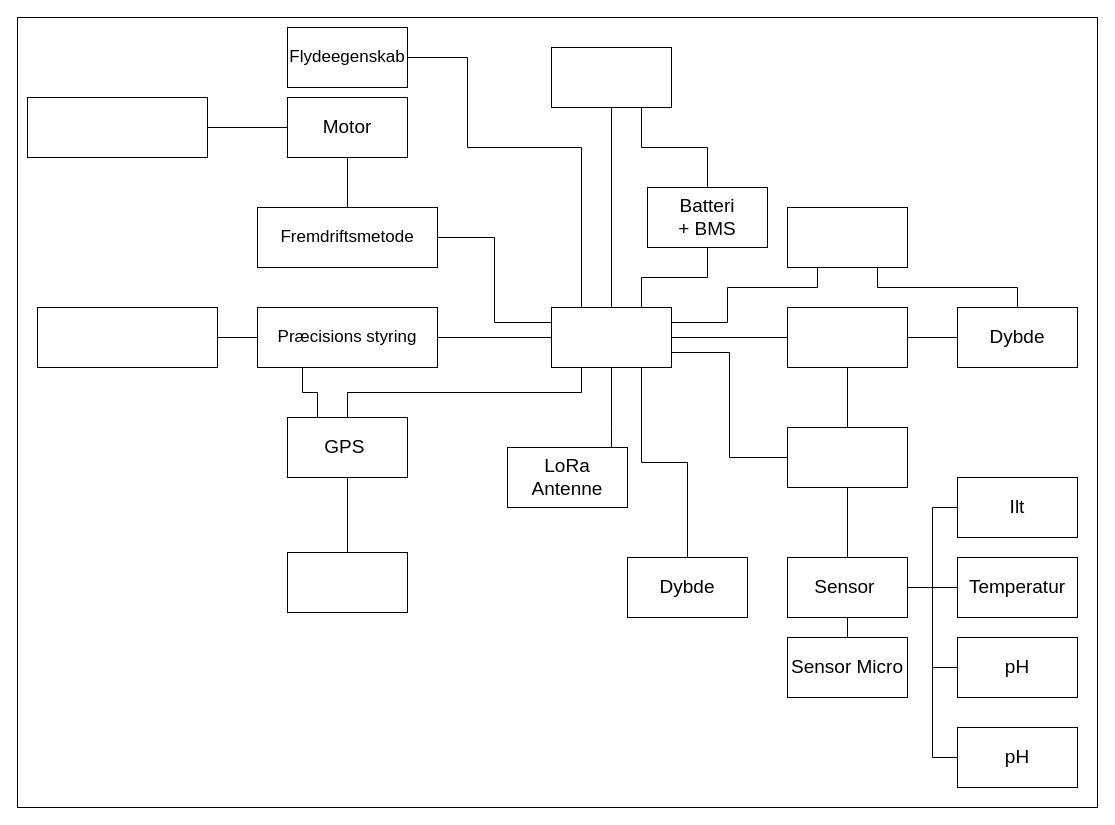
The diagram is 1115 pixels wide and 825 high, and some of its shapes have lost their labels. Here are the shapes that lost their labels. From the top down, the centre of each, then its label:
At (611,77): "Solcelle".
At (117,127): "Variable speed controller".
At (847,237): "Ecco lod".
At (127,337): "Acceloremeter".
At (611,337): "Båden".
At (847,337): "Wire-Spil".
At (847,457): "Sensor Pod".
At (347,582): "Pathfinding".
